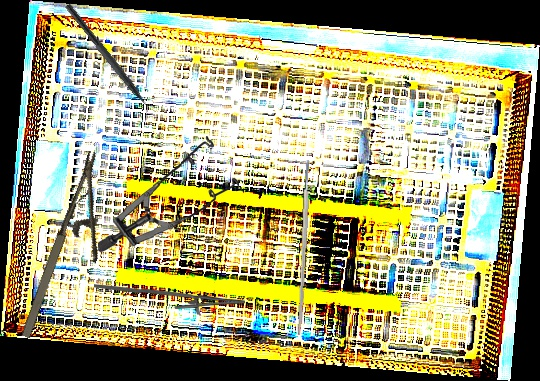Chopper: (57, 3, 158, 122)
Needle Holder: (15, 150, 135, 351), (93, 280, 246, 319)
Scalpel Handle: (295, 159, 313, 336)
Speculum: (94, 134, 241, 253)
